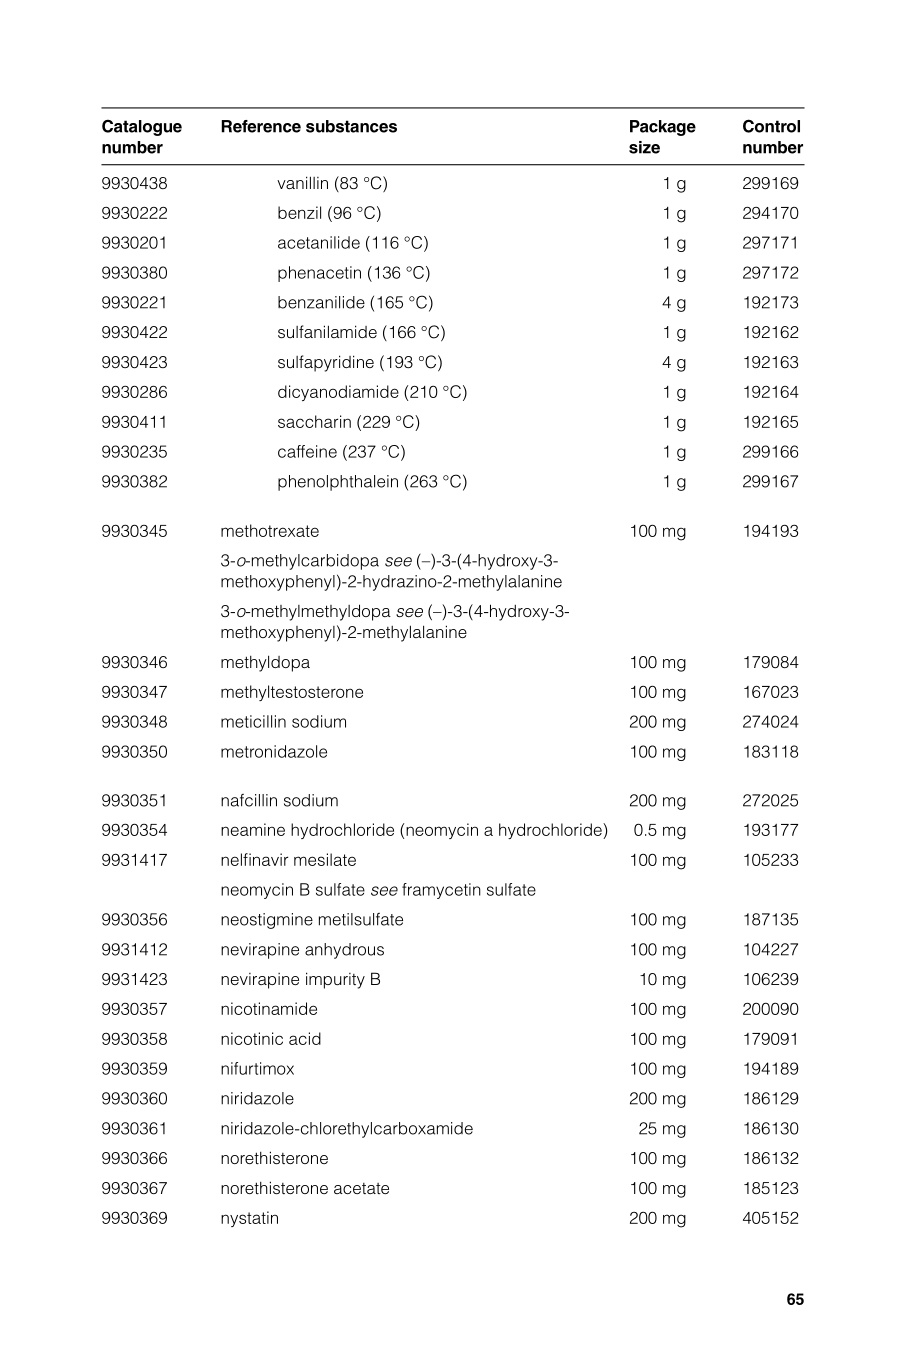partial_lined: (98, 105, 806, 1238)
